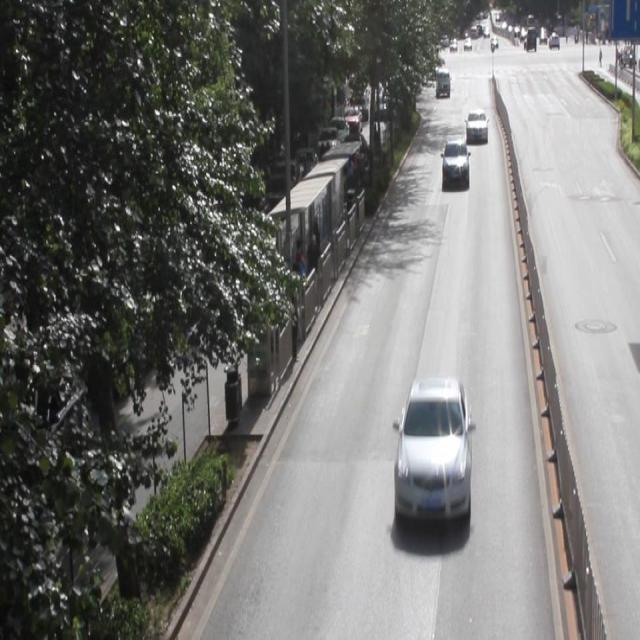car: (393, 376, 469, 522), (440, 140, 467, 186), (464, 108, 486, 140)
